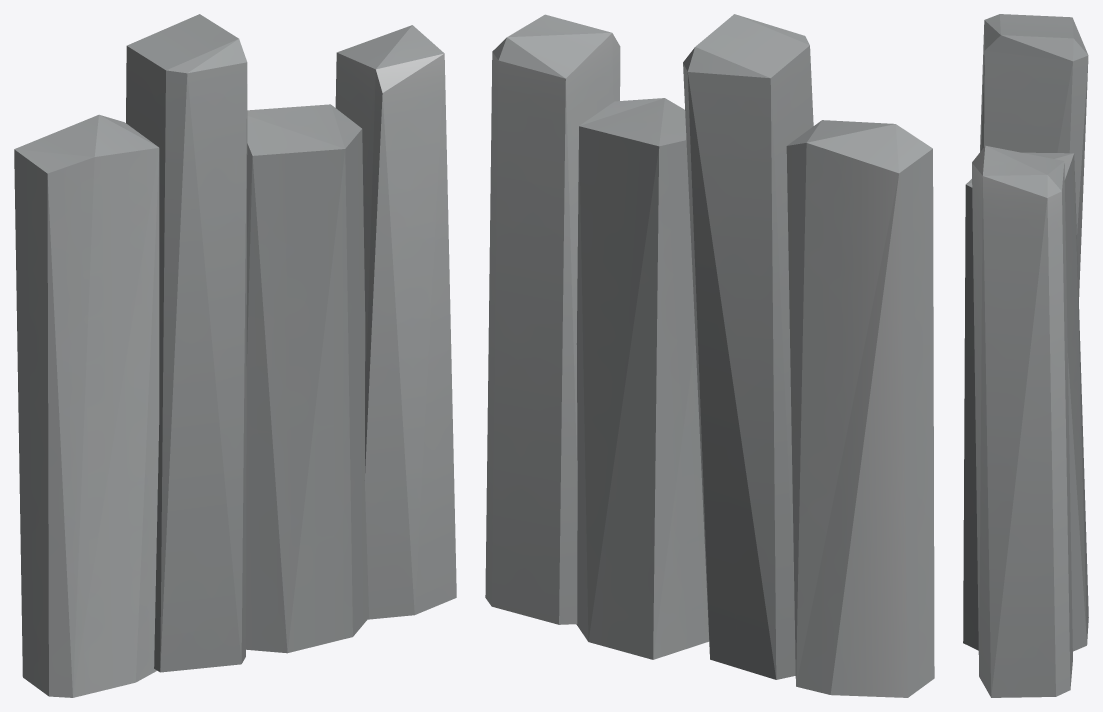
Rendered from rock_3.fbx.
The picture shows the model from 3 angles, left to right: view 1: azimuth 30°, elevation 25°; view 2: azimuth 150°, elevation 25°; view 3: azimuth 270°, elevation 25°; orthographic projection. The views are drawn at different scales.
Visible parts, largest first — view 1: rock_3; view 2: rock_3; view 3: rock_3.
Part boxes in pixels (x1,y1,x2,y2): rock_3: [14, 14, 456, 697]; rock_3: [485, 14, 934, 697]; rock_3: [963, 14, 1088, 697].
Bounding box in the file's own units: 3.5 × 5.02 × 1.
